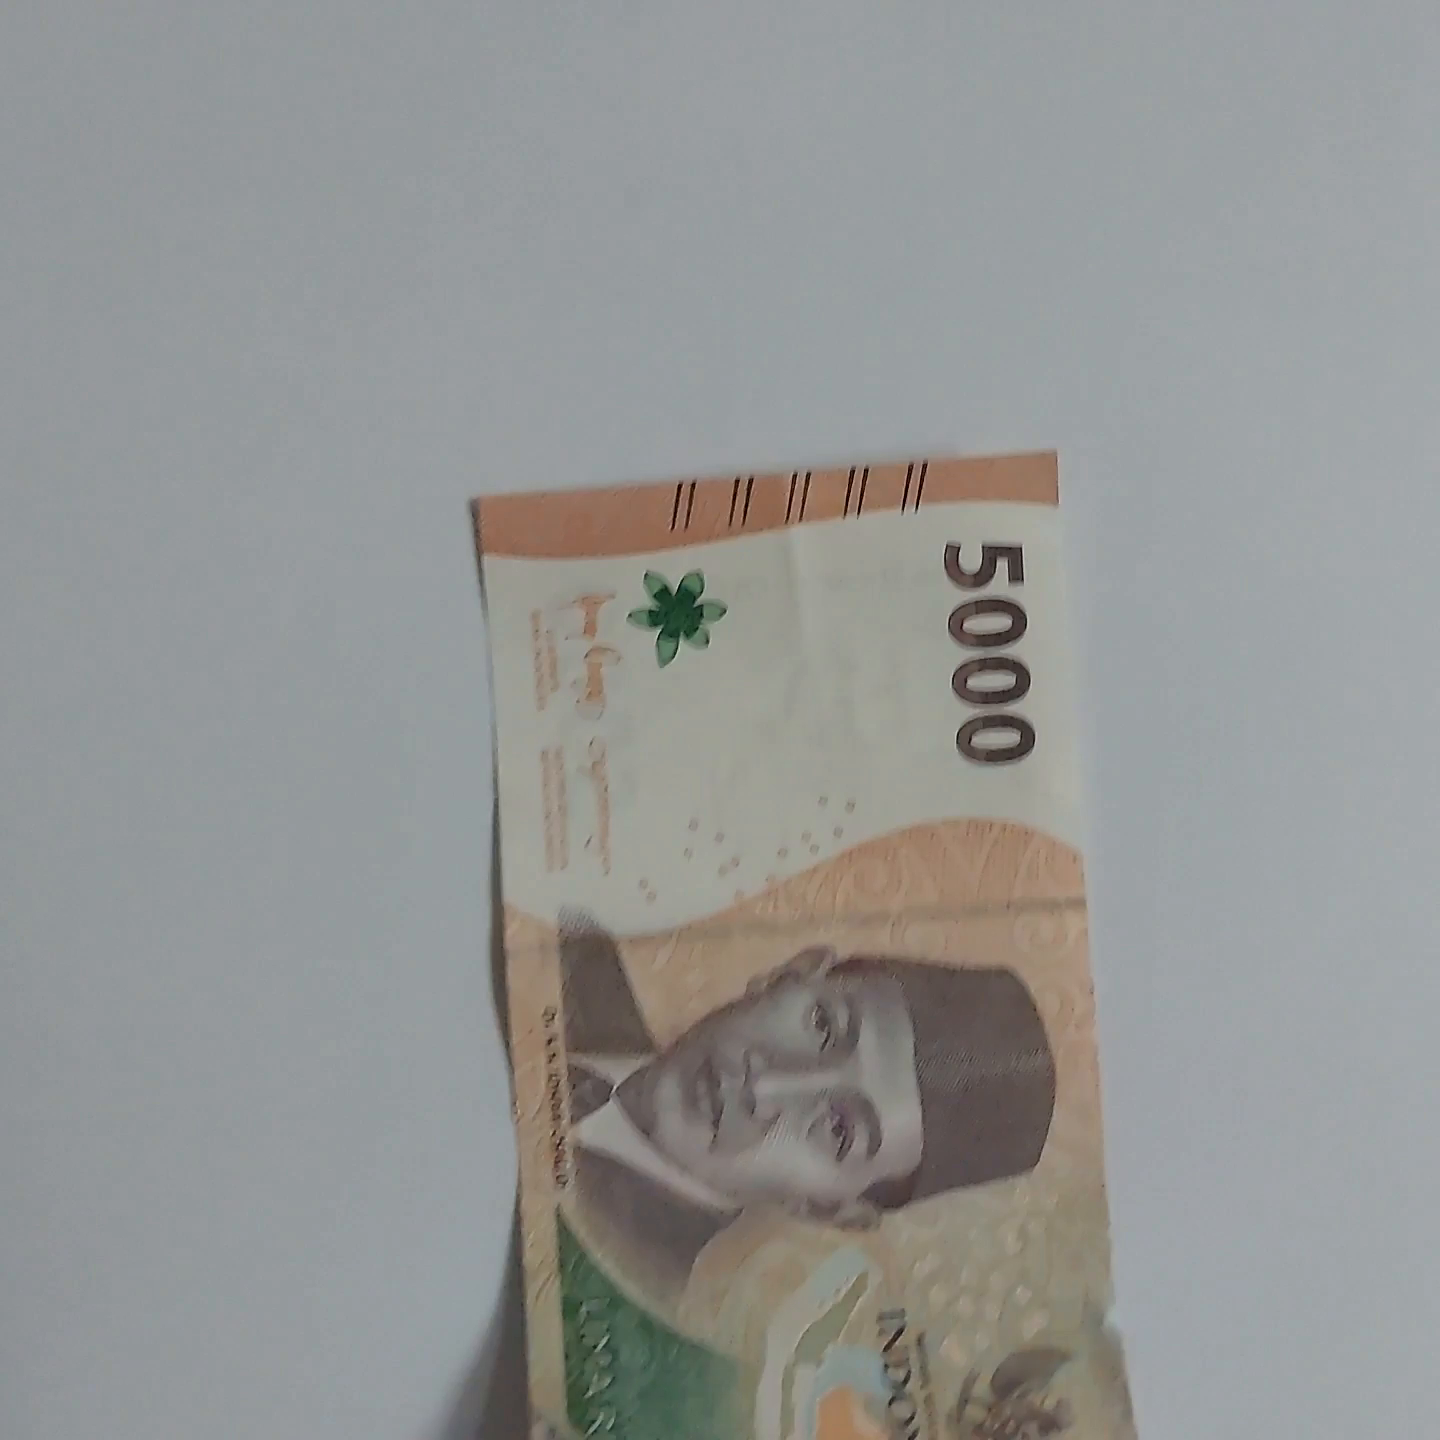5k: (415, 451, 1207, 1440)
